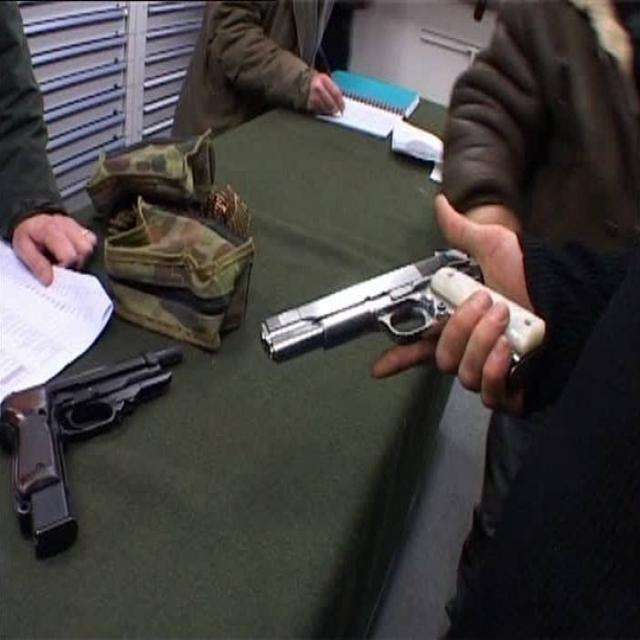gun-knife-thesis - v11 Yolov5 augmented: (251, 237, 552, 387), (0, 340, 189, 559)
